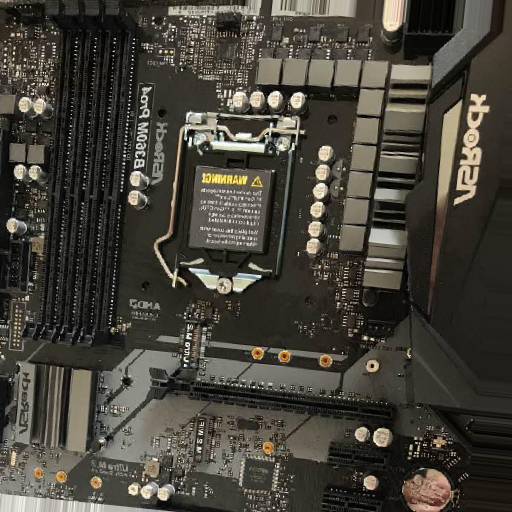CPU: (176, 111, 300, 294)
GPU: (148, 368, 395, 424)
MOTHERBOARD: (1, 1, 510, 512)
RAM: (20, 2, 135, 344)
SSD: (178, 320, 208, 369), (194, 414, 218, 463)
